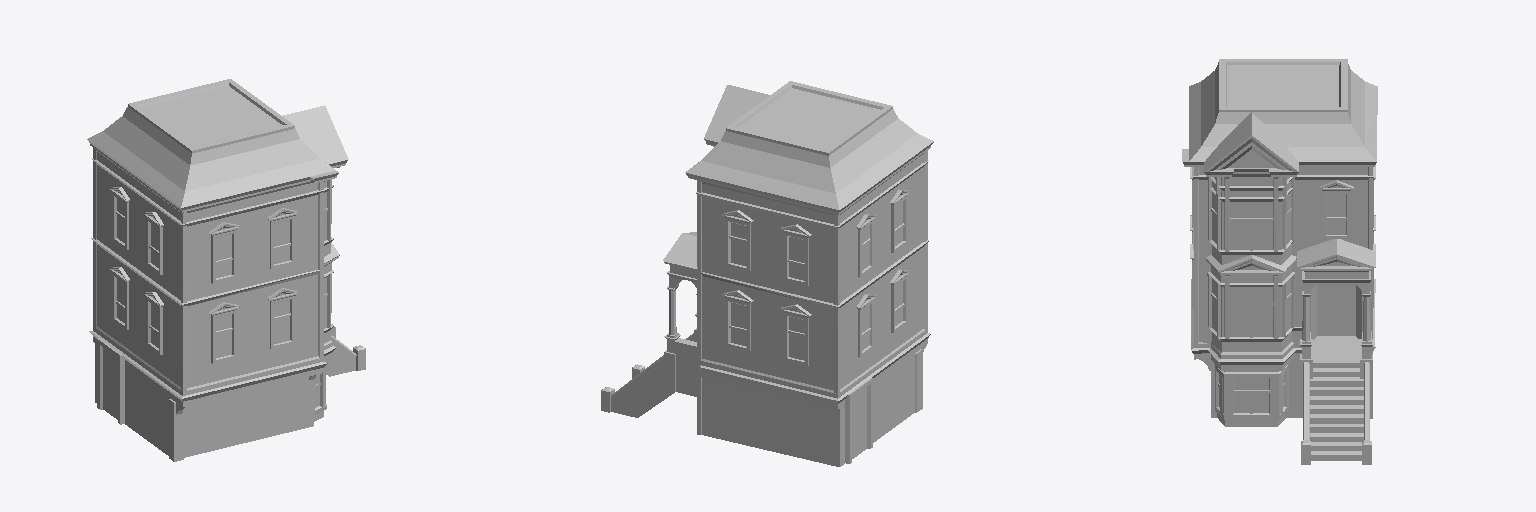
The model's file is houseSF_nuevo.obj.
3 views of the same model, side by side, from view 1: azimuth 30°, elevation 25°; view 2: azimuth 150°, elevation 25°; view 3: azimuth 270°, elevation 25° (orthographic).
Parts seen in each view (by area): view 1: SanFranciscoHouse_polySurface2129, SanFranciscoHouseBasement_polySurface2052; view 2: SanFranciscoHouse_polySurface2129, SanFranciscoHouseBasement_polySurface2052; view 3: SanFranciscoHouse_polySurface2129.
Part boxes in pixels (x1,y1,x2,y2): SanFranciscoHouse_polySurface2129: (87,79,365,461); SanFranciscoHouseBasement_polySurface2052: (95,399,323,457); SanFranciscoHouse_polySurface2129: (601,81,933,463); SanFranciscoHouseBasement_polySurface2052: (702,410,914,466); SanFranciscoHouse_polySurface2129: (1182,59,1377,464).
Bounding box in the file's own units: 8.44 × 10.07 × 5.92.